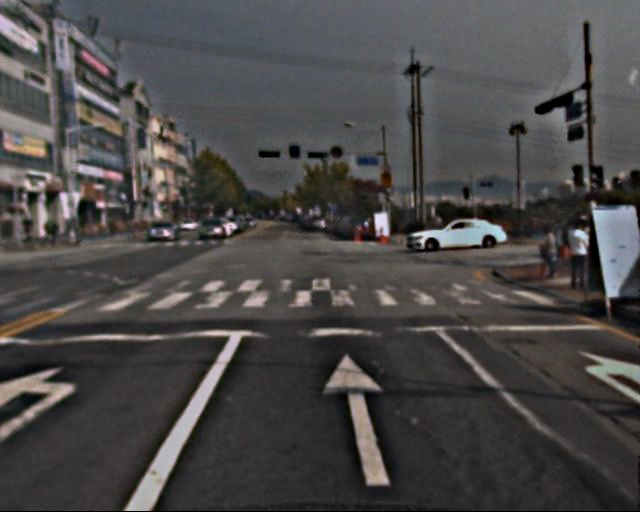person: (558, 221, 592, 288), (531, 226, 559, 283)
